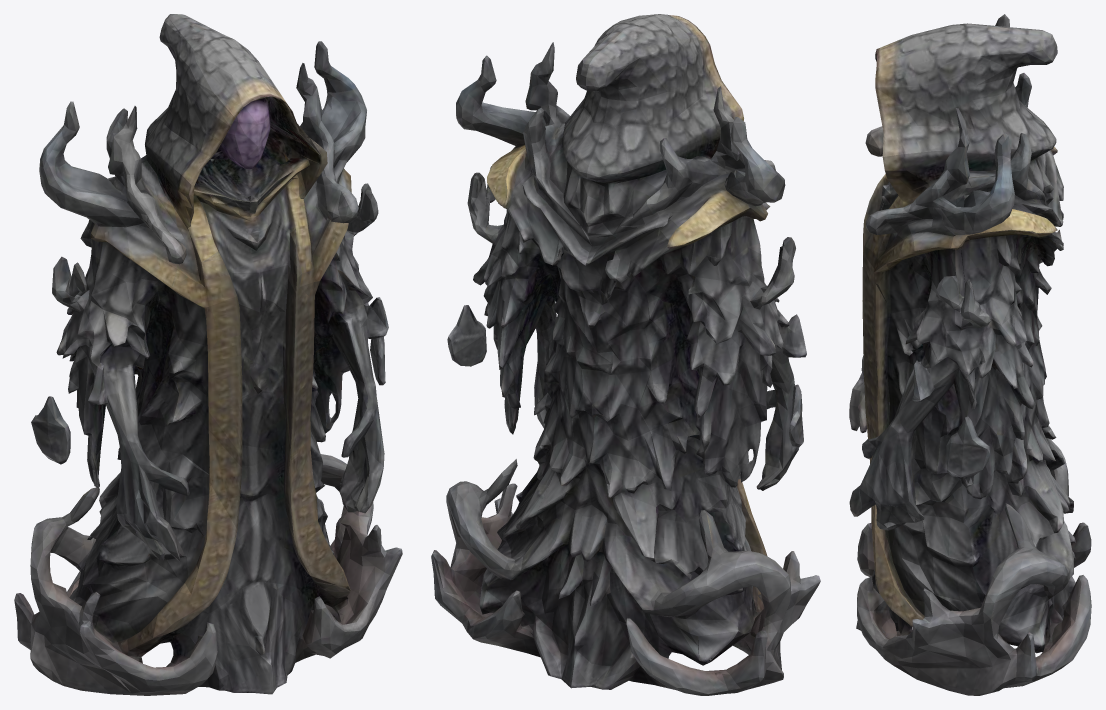
Rendered from blackMirrorWraith.glb.
3 renders of one model, left to right at view 1: azimuth 30°, elevation 25°; view 2: azimuth 150°, elevation 25°; view 3: azimuth 270°, elevation 25°, orthographic. The views are drawn at different scales.
Parts seen in each view (by area): view 1: world; view 2: world; view 3: world.
Boxes of the visible parts, left/top/right/bottom form: world: left=14, top=14, right=402, bottom=695; world: left=431, top=14, right=820, bottom=695; world: left=849, top=14, right=1091, bottom=695.
Bounding box in the file's own units: 0.5885 × 1 × 0.3648.
1 material, 1 textured.
